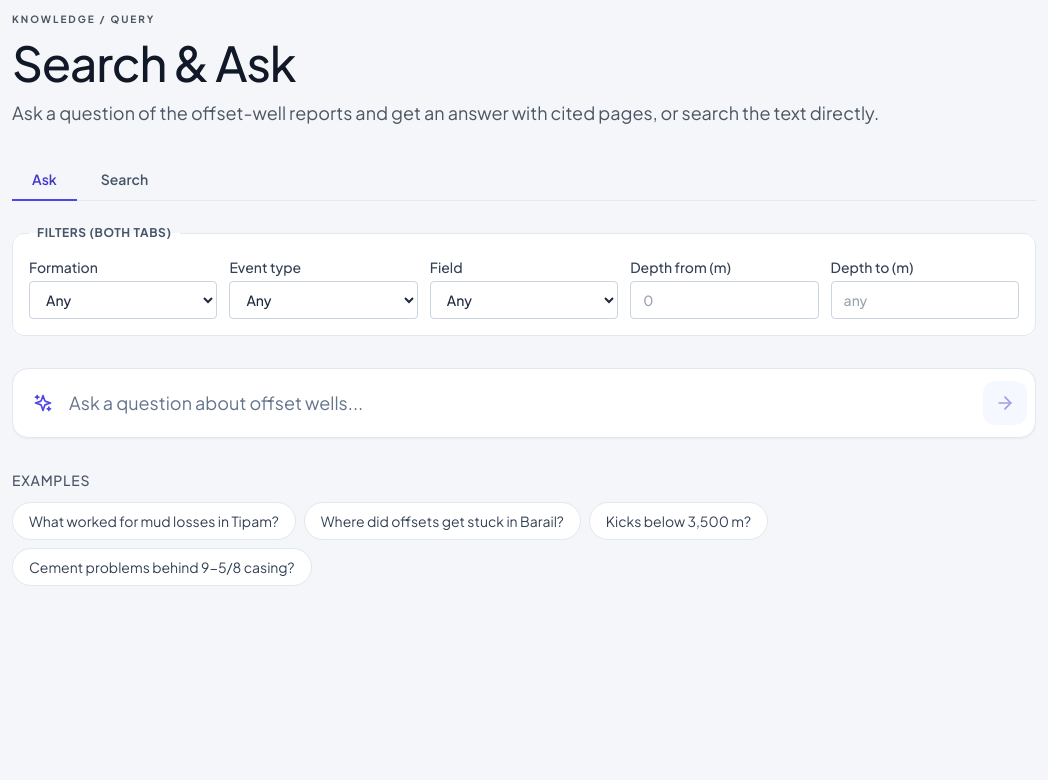
Test case: SearchPage › says so when nothing matches and when the search fails
The width and height of the screenshot is (1048, 780).
Click the tab "Search" at (124, 180), box [81, 159, 168, 201]
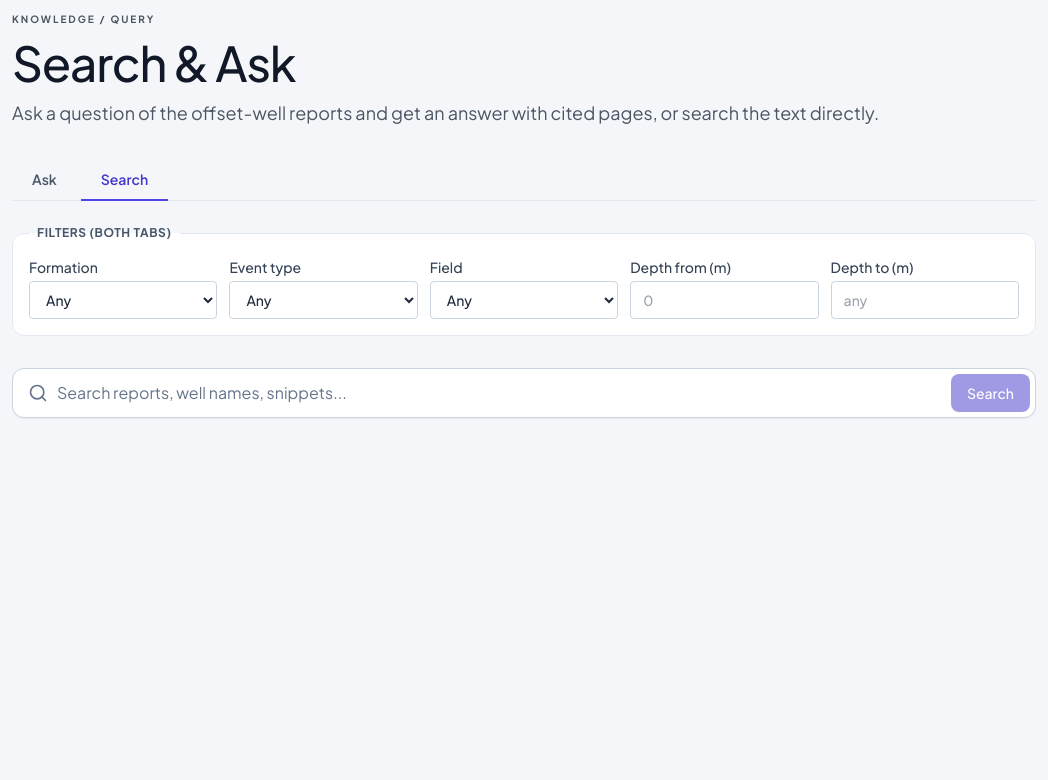
Type "zzzz" into the field labelled "Search reports" at (524, 393), box [12, 368, 1036, 418]
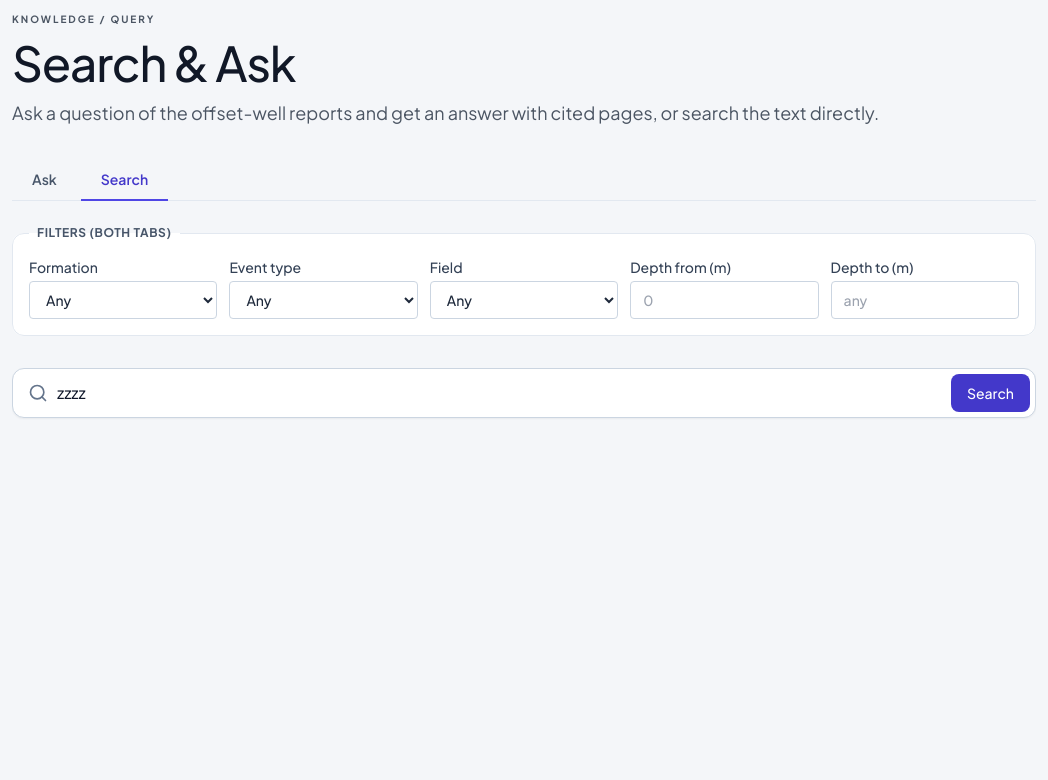
Submit the form, box [12, 368, 1036, 418]
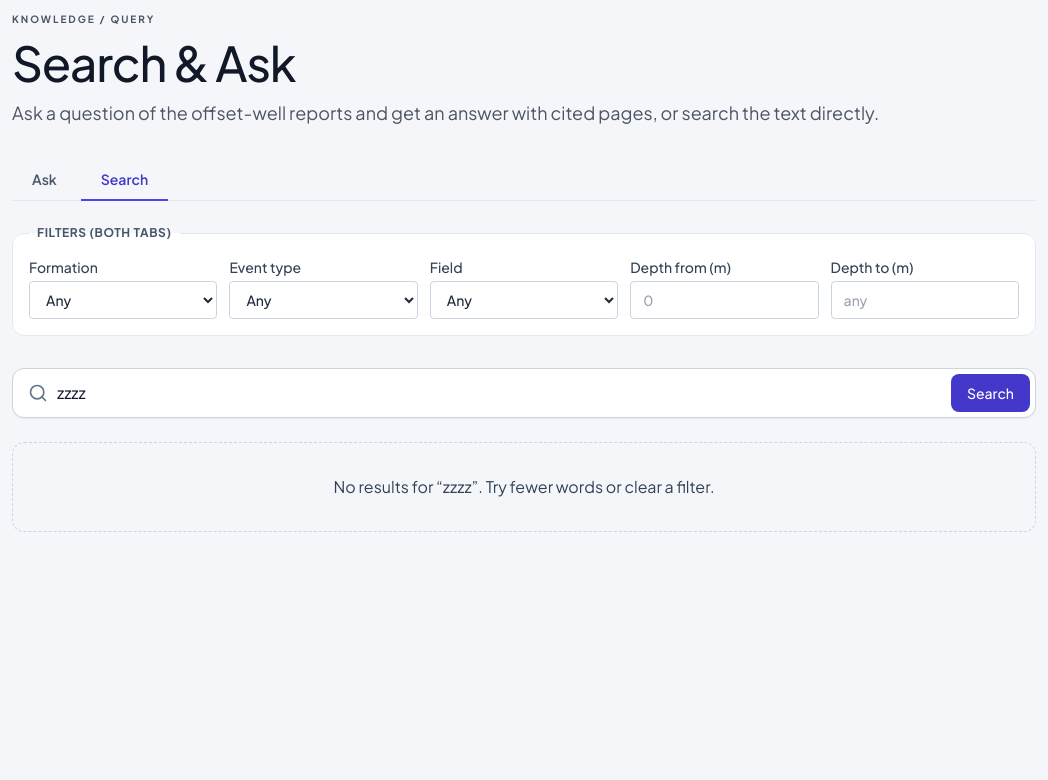
Expected: the text "No results for “zzzz”. Try fewer words or clear a filter." is shown, [12, 442, 1036, 532]
Submit the form, box [12, 368, 1036, 418]
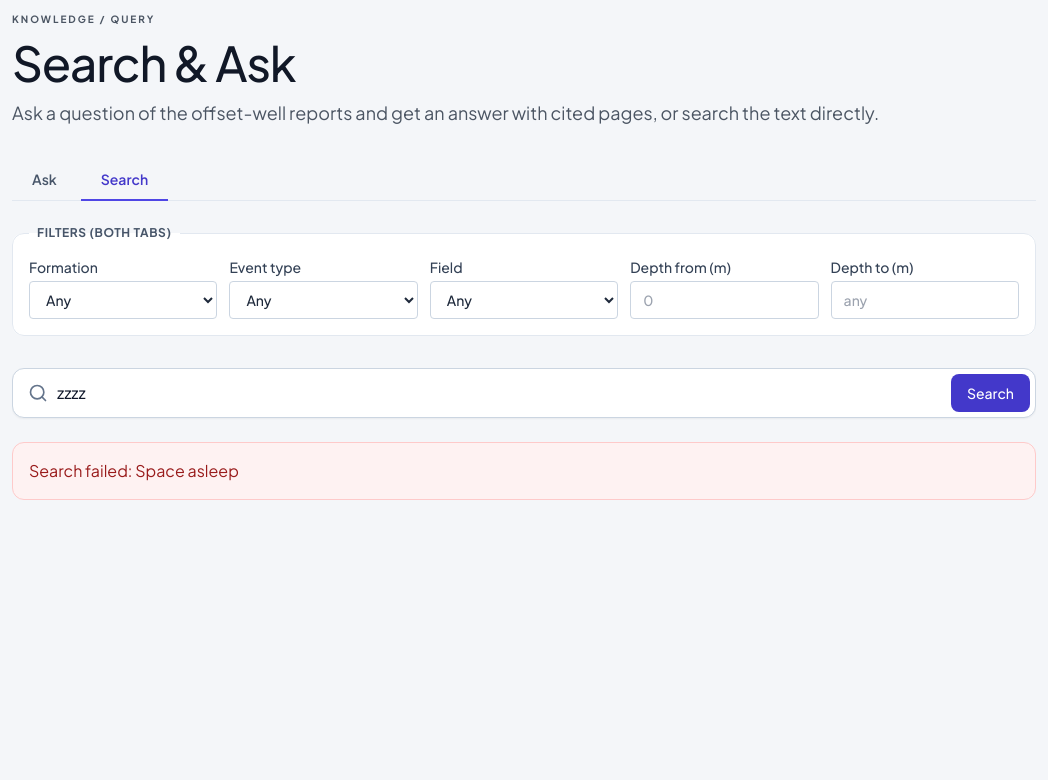
Expected: the message shows "Space asleep", [135, 460, 239, 481]
